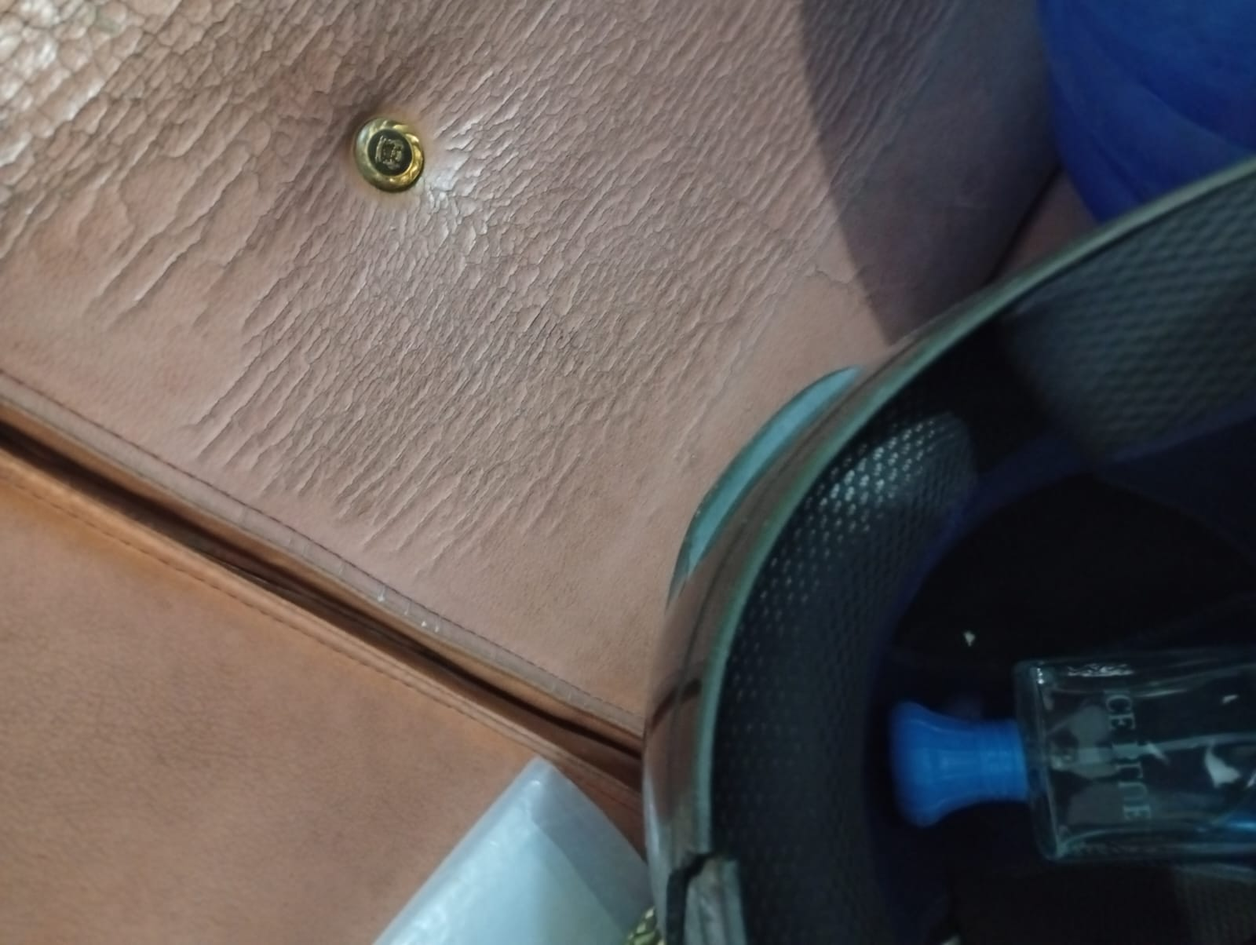Parfum: (845, 625, 1256, 890)
